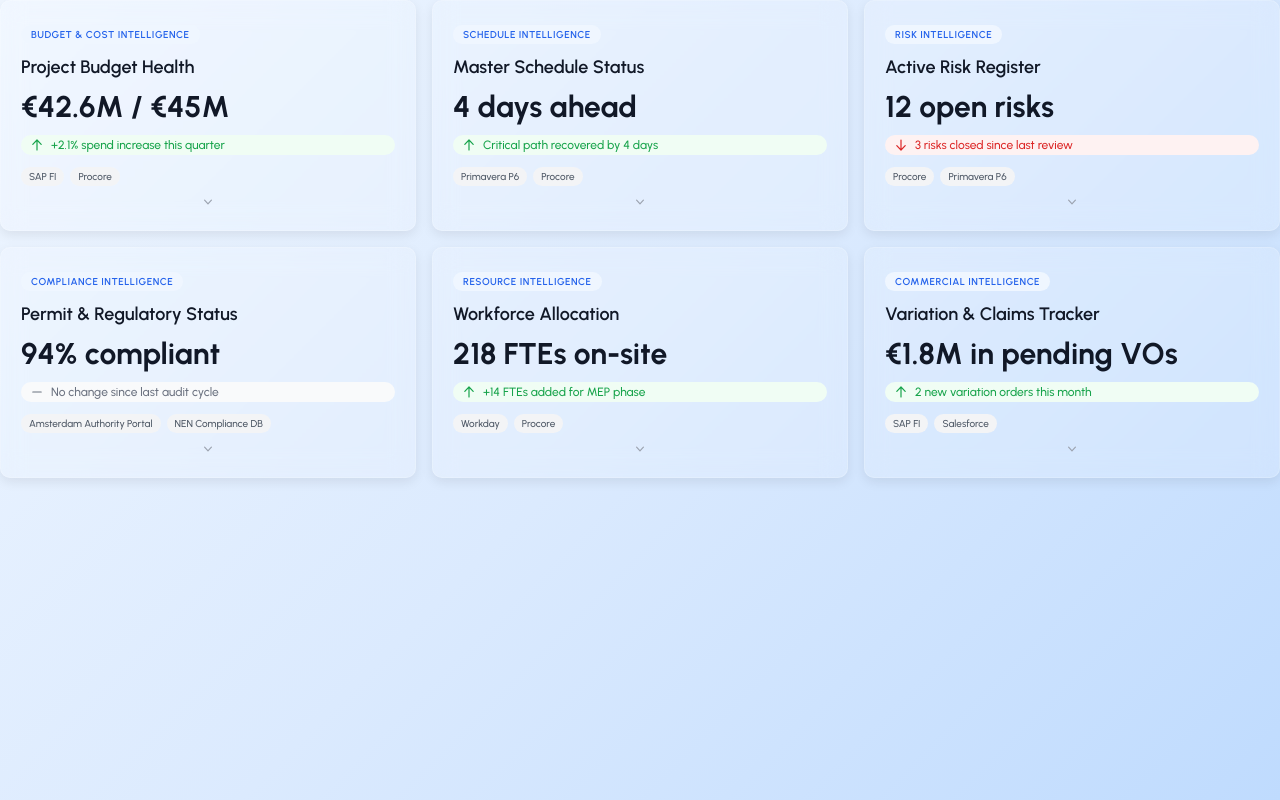
IntelligenceClusters › expands cluster detail text on click
This screenshot has width=1280, height=800.
Click the button with aria-label "Project Budget Health — €42.6M / €45M": (208, 116) [0, 0, 416, 231]
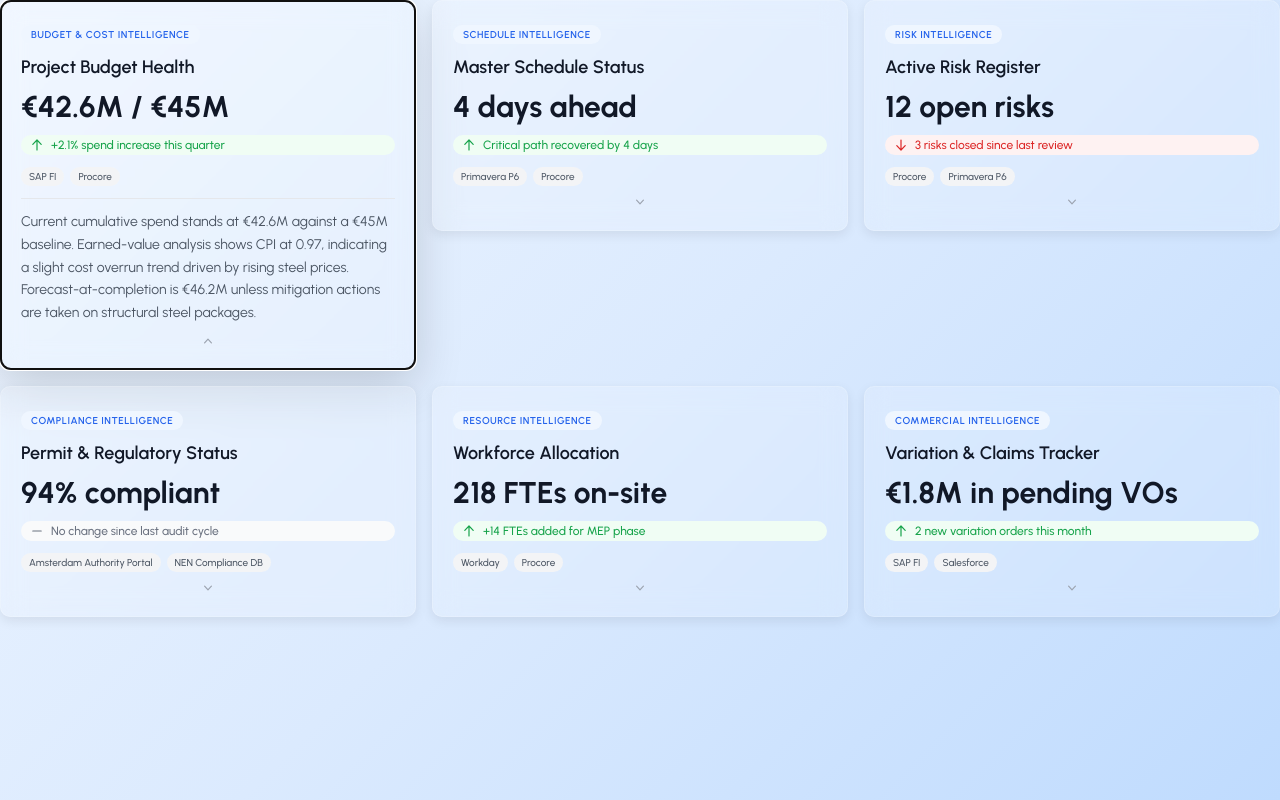
Expected: the button with aria-label "Project Budget Health — €42.6M / €45M" is expanded, [0, 0, 416, 370]
Expected: the text "Current cumulative spend stands at €42.6M against a €45M baseline" is shown, [21, 213, 388, 321]
